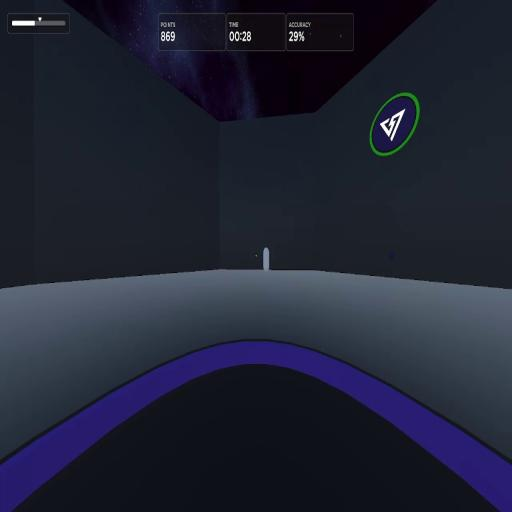Crosshair: (256, 254, 258, 258)
Target: (263, 247, 269, 274)
